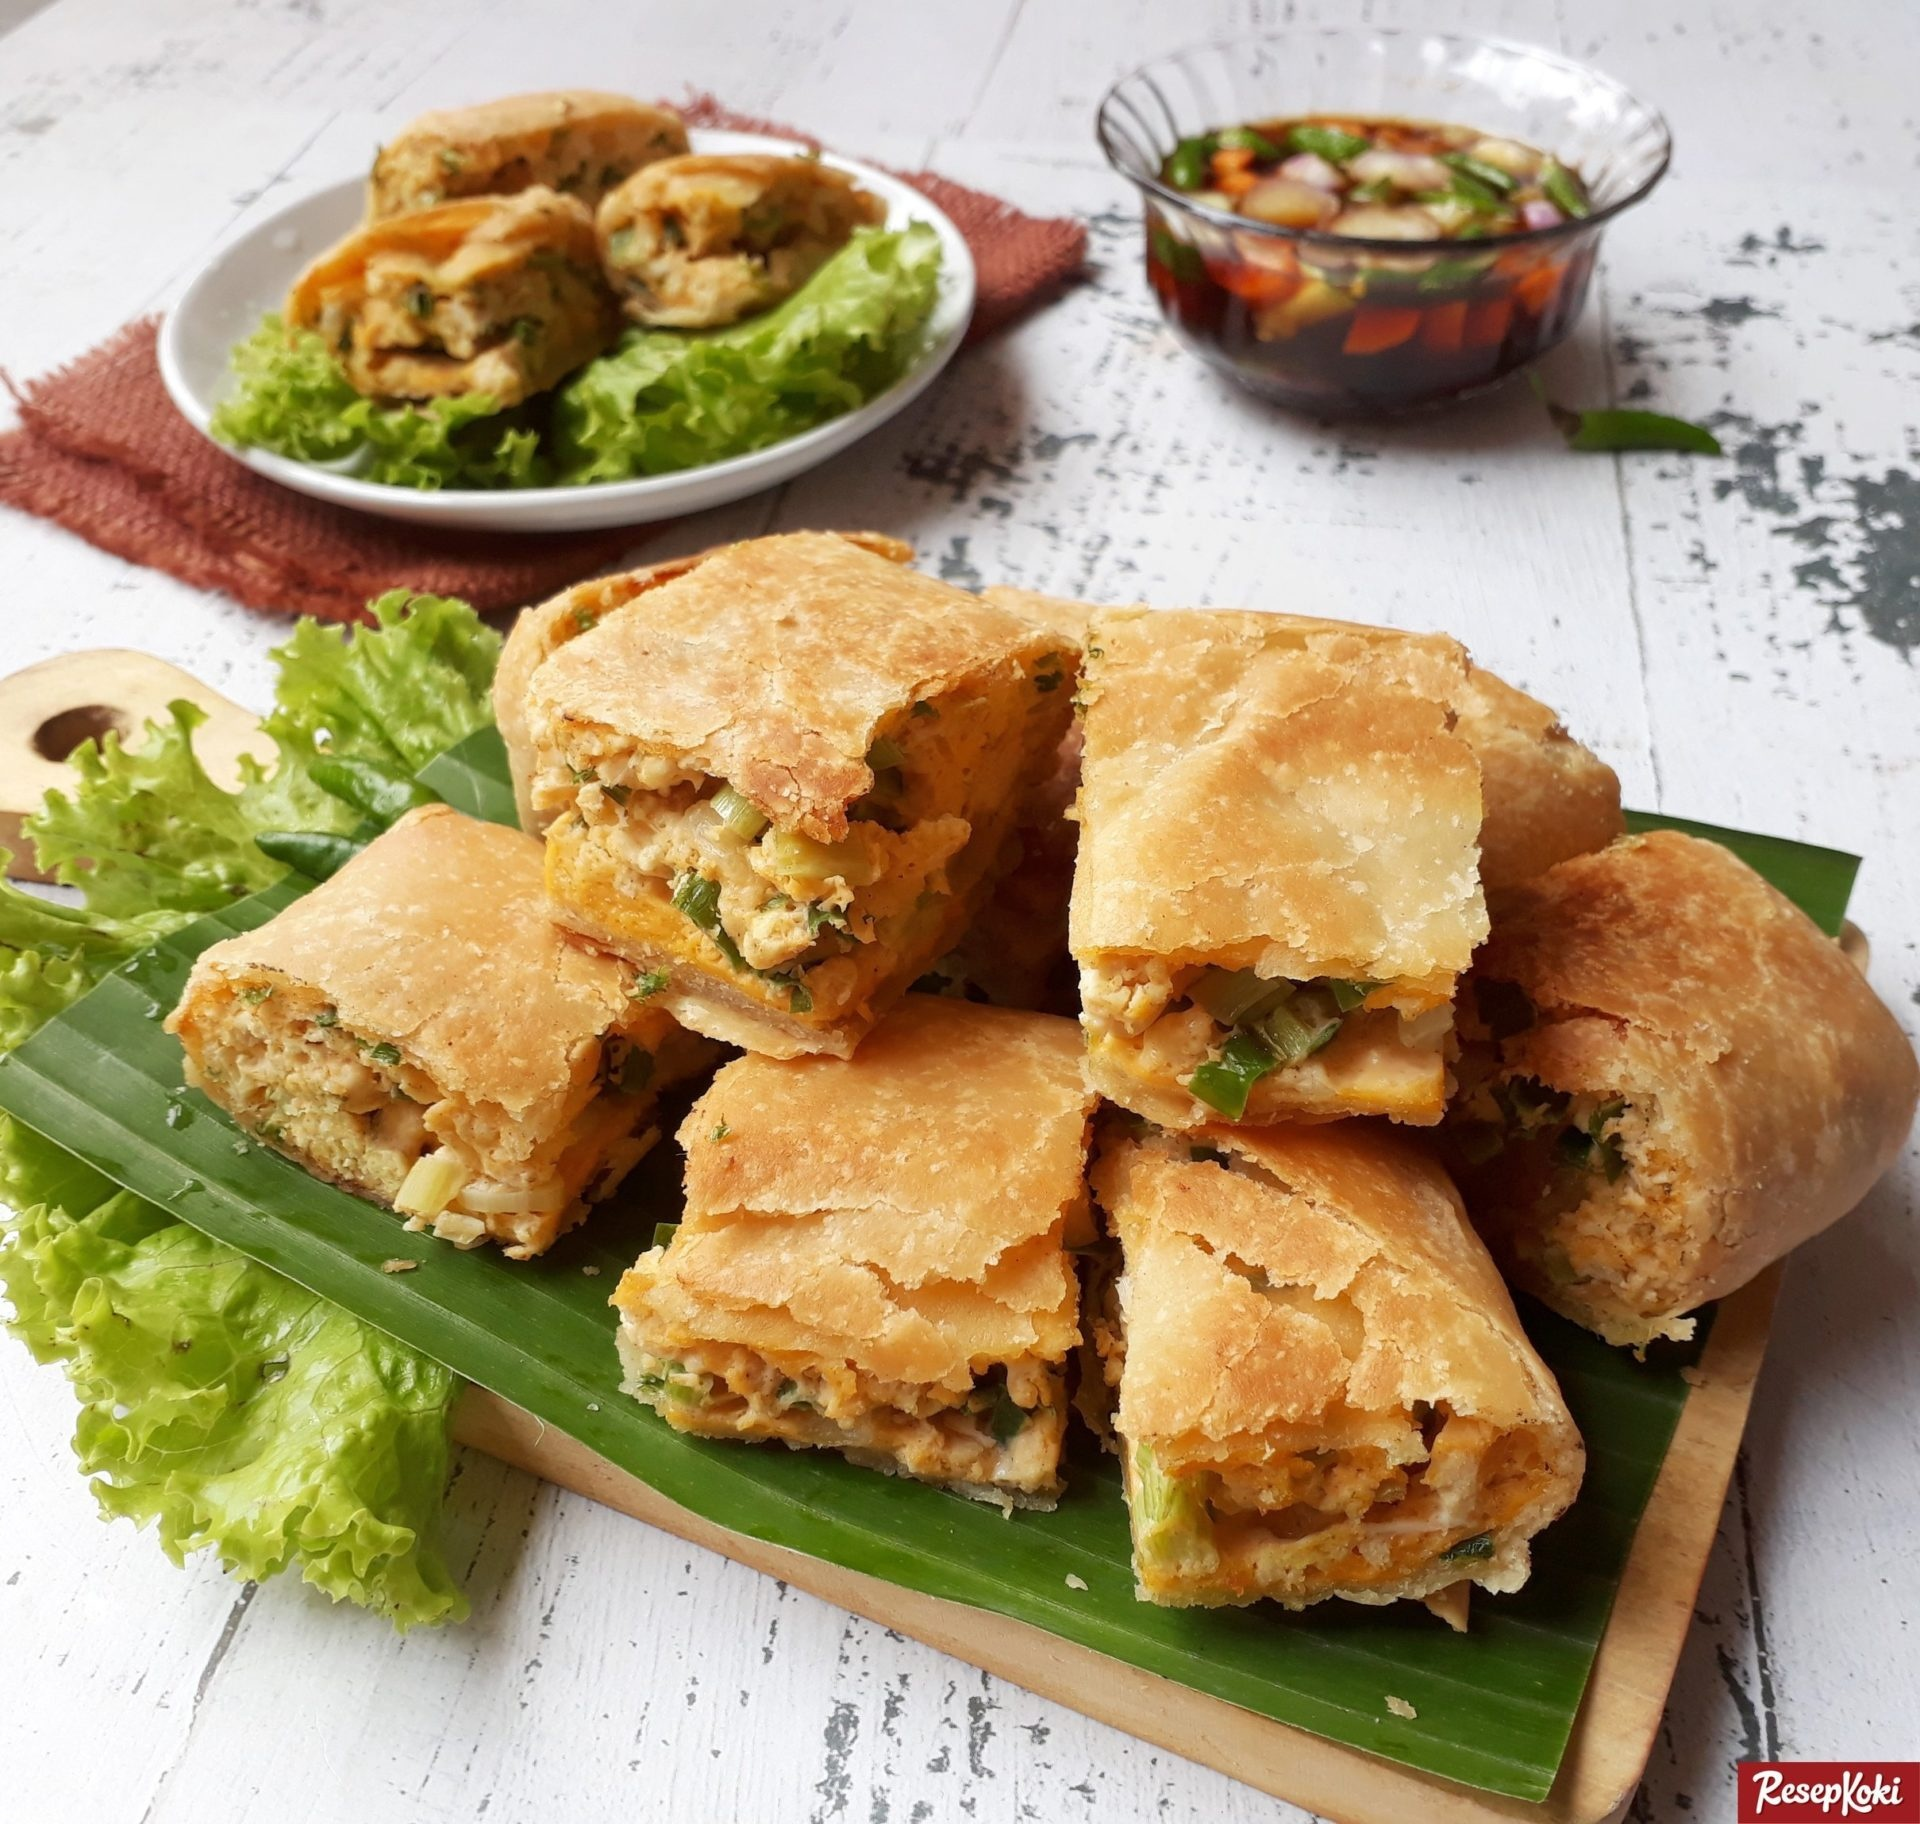martabak: (170, 535, 1920, 1629)
